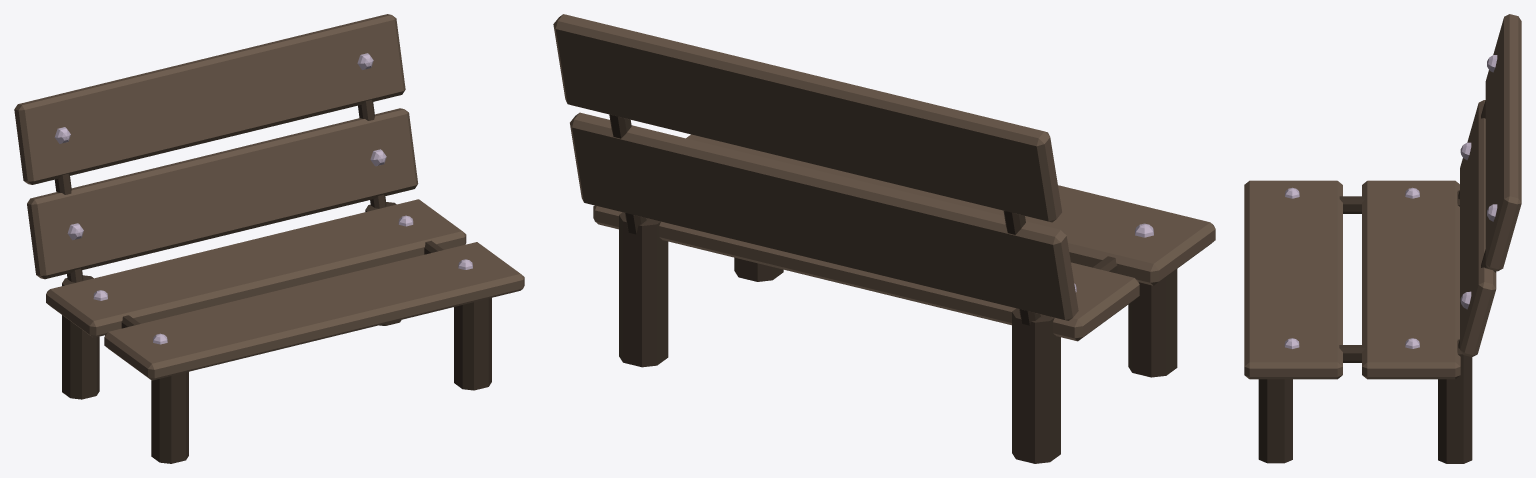
The model's file is bench.fbx.
3 renders of one model, left to right at view 1: azimuth 30°, elevation 25°; view 2: azimuth 150°, elevation 25°; view 3: azimuth 270°, elevation 25°, orthographic. The views are drawn at different scales.
Parts seen in each view (by area): view 1: polySurface167; view 2: polySurface167; view 3: polySurface167.
Boxes of the visible parts, left/top/right/bottom form: polySurface167: left=14, top=14, right=524, bottom=463; polySurface167: left=553, top=14, right=1215, bottom=463; polySurface167: left=1244, top=14, right=1521, bottom=463.
Bounding box in the file's own units: 4.32 × 3 × 2.72.
